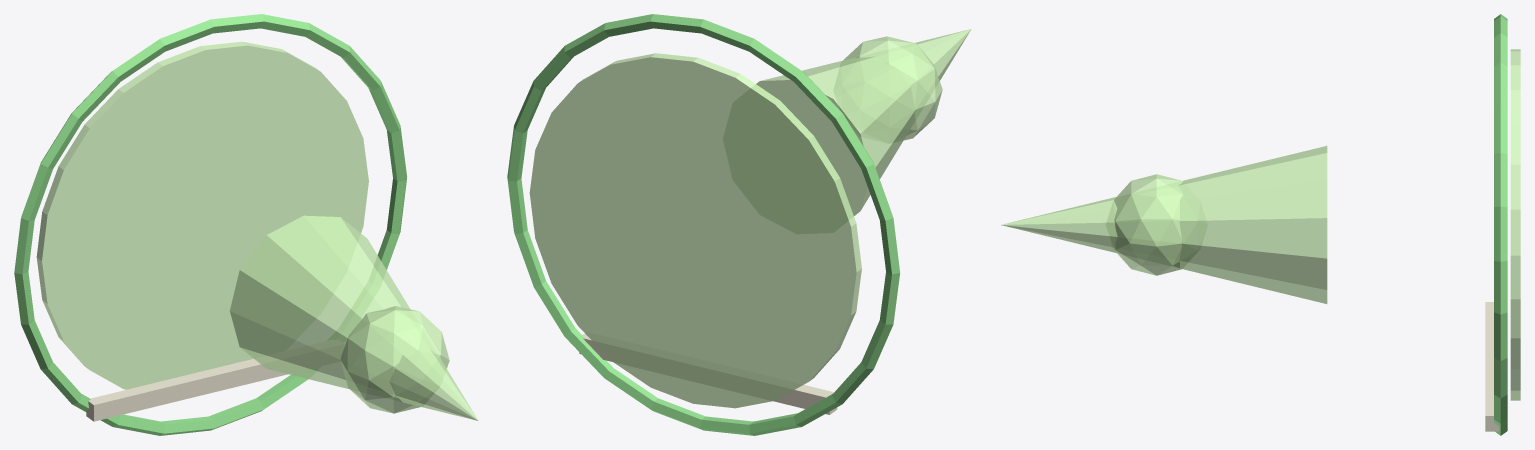
The model's file is 01_ability_vfx_module.glb.
The picture shows the model from 3 angles, left to right: view 1: azimuth 30°, elevation 25°; view 2: azimuth 150°, elevation 25°; view 3: azimuth 270°, elevation 25°; orthographic projection. The views are drawn at different scales.
Visible parts, largest first — view 1: ability_ground_disc, ability_energy_cone, ability_timing_ring, ability_core, directional_flow_mark; view 2: ability_ground_disc, ability_timing_ring, ability_energy_cone, directional_flow_mark, ability_core; view 3: ability_energy_cone, ability_core, ability_timing_ring, ability_ground_disc, directional_flow_mark.
Part boxes in pixels (box(x1,y1,x2,y2)): ability_ground_disc: box(36, 41, 368, 389); ability_energy_cone: box(230, 215, 478, 420); ability_timing_ring: box(14, 14, 406, 435); ability_core: box(340, 306, 449, 413); directional_flow_mark: box(86, 340, 343, 421); ability_ground_disc: box(529, 53, 861, 408); ability_timing_ring: box(507, 14, 899, 435); ability_energy_cone: box(756, 29, 971, 215); directional_flow_mark: box(579, 332, 837, 414); ability_core: box(843, 36, 942, 140); ability_energy_cone: box(1001, 146, 1327, 303); ability_core: box(1114, 174, 1183, 275); ability_timing_ring: box(1494, 14, 1507, 435); ability_ground_disc: box(1510, 49, 1520, 400); directional_flow_mark: box(1485, 302, 1499, 431).
Bounding box in the file's own units: 1.49 × 1.49 × 1.83.
